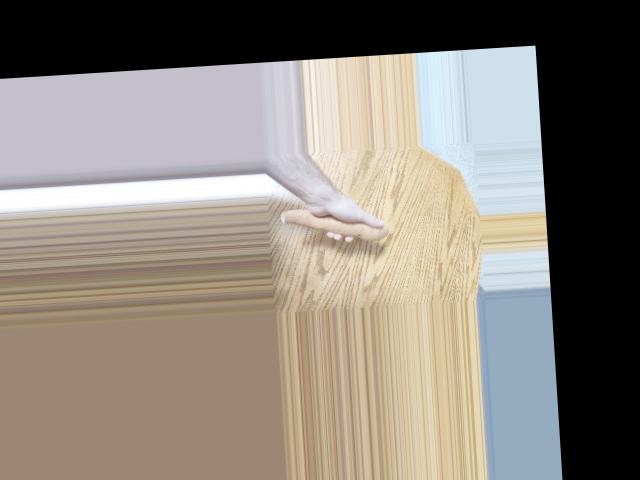sweet_potato: (279, 202, 388, 246)
